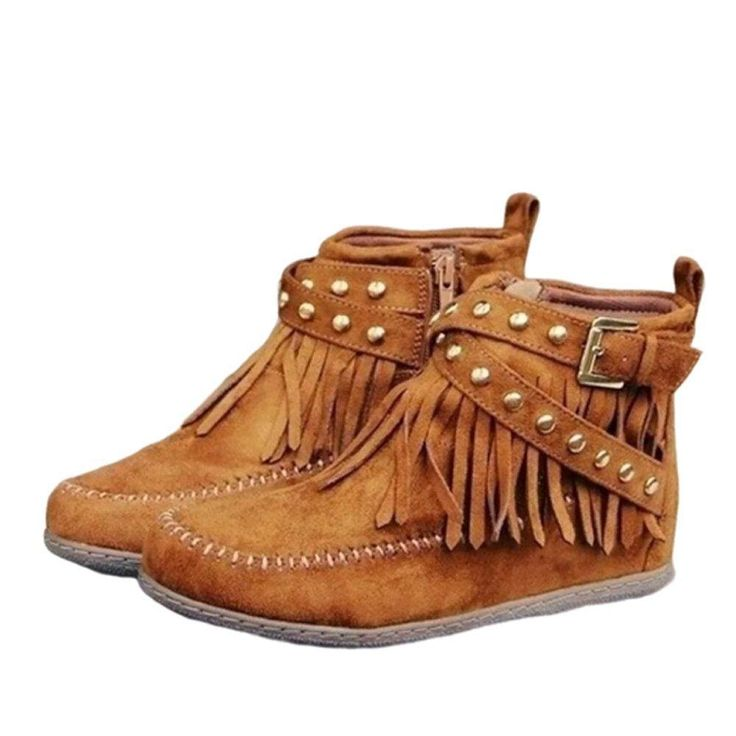gamuza: (46, 193, 705, 627)
